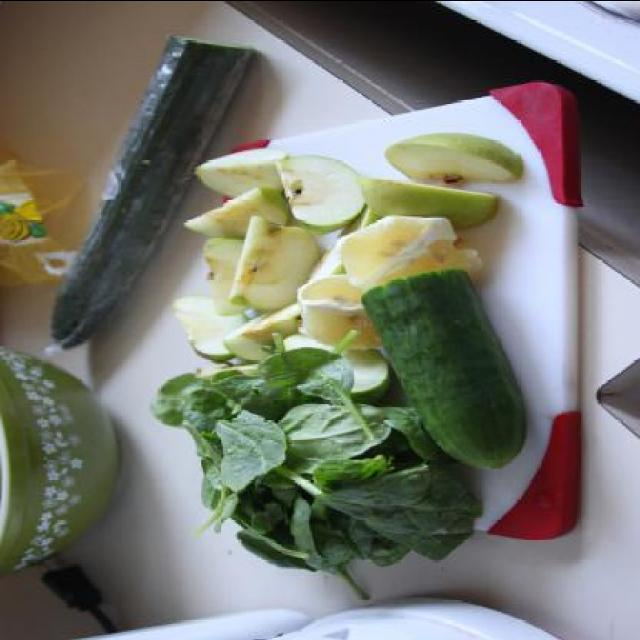Zucchini: (46, 37, 260, 348), (368, 245, 537, 452)
